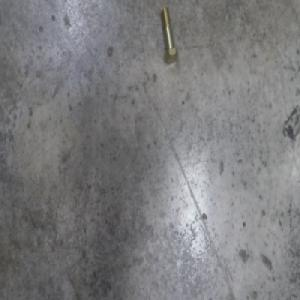Bolt: (160, 9, 177, 66)
